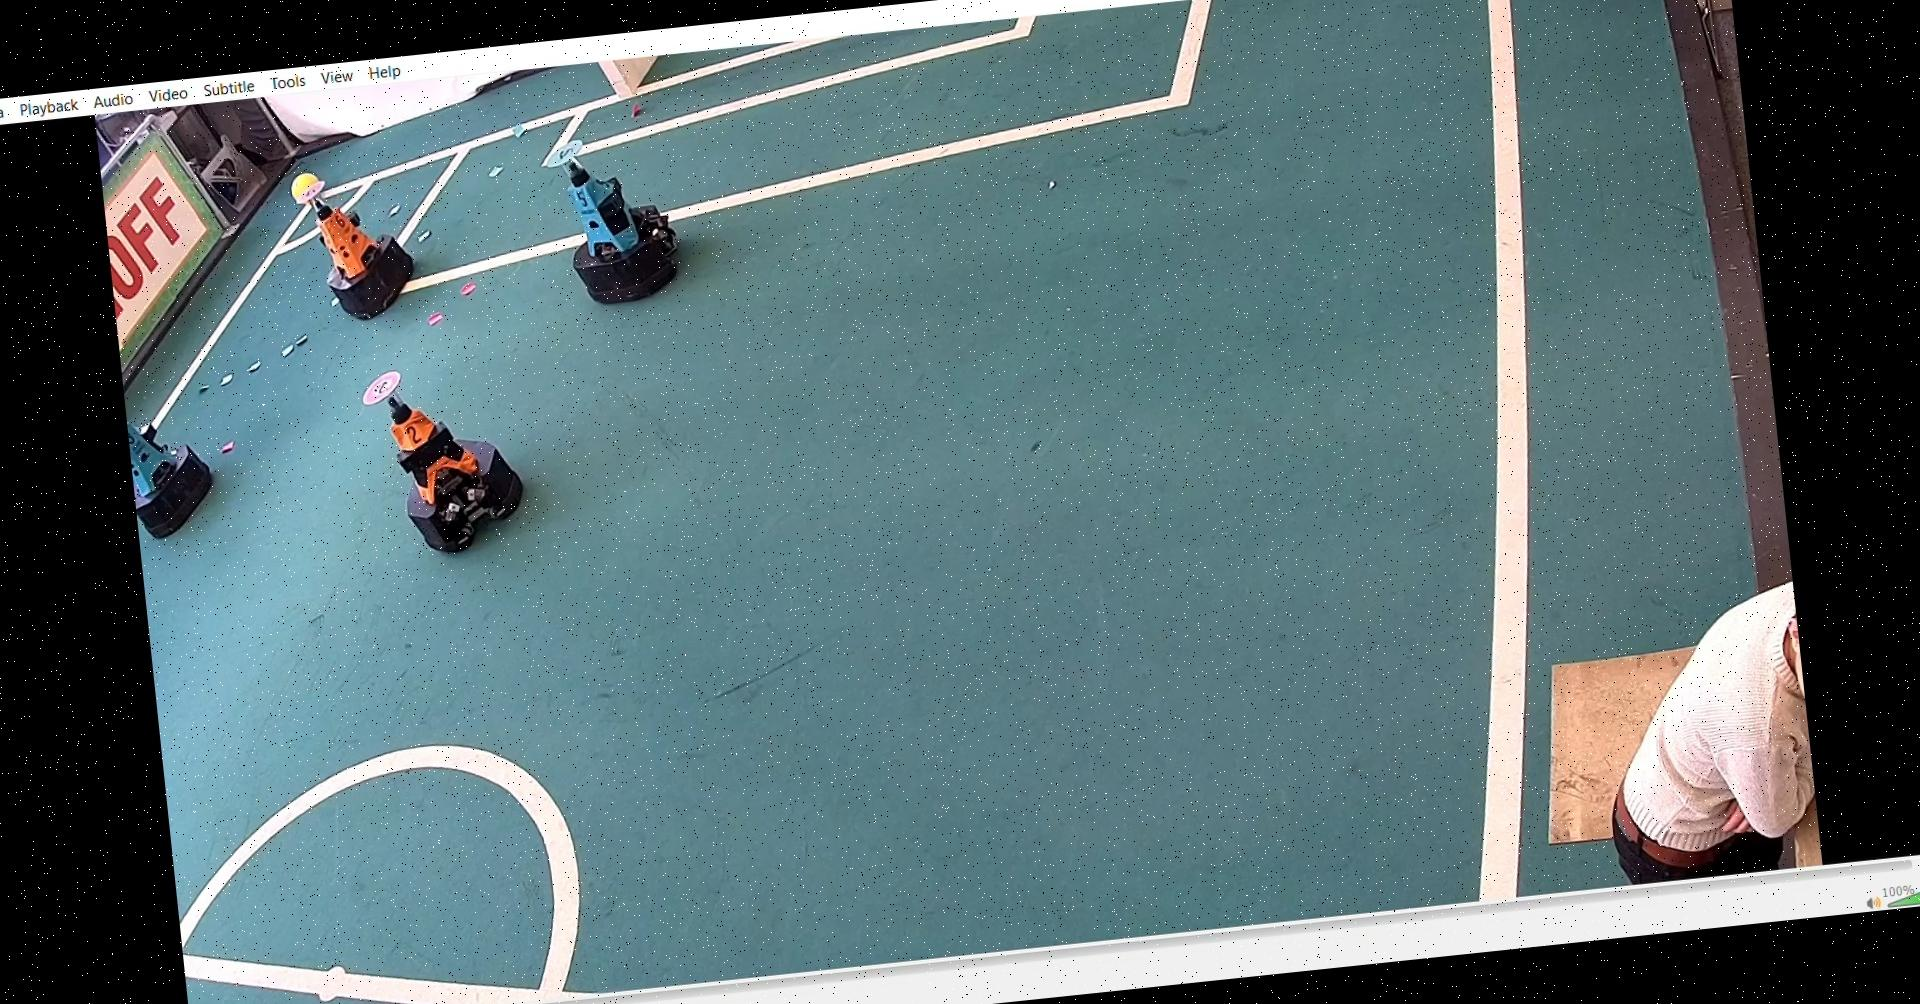Ball: (296, 170, 333, 203)
Team_Blue: (540, 119, 697, 312), (123, 391, 235, 537)
Team_Red: (357, 348, 533, 561), (282, 161, 423, 336)
